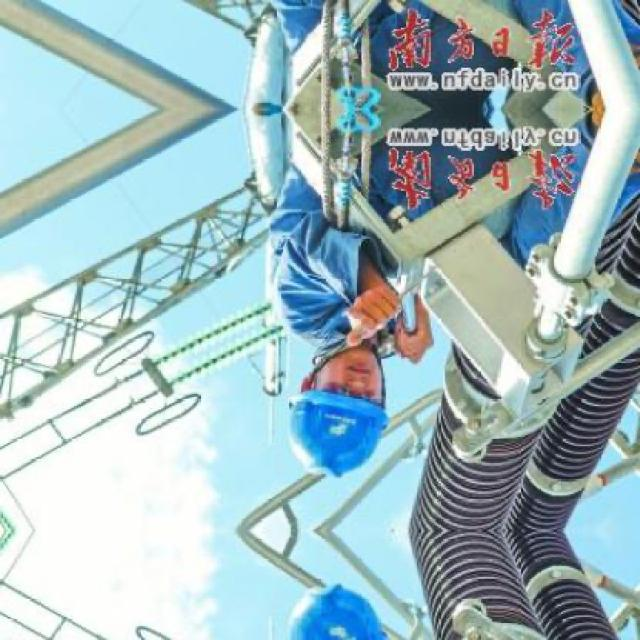con casco: (251, 351, 426, 493)
